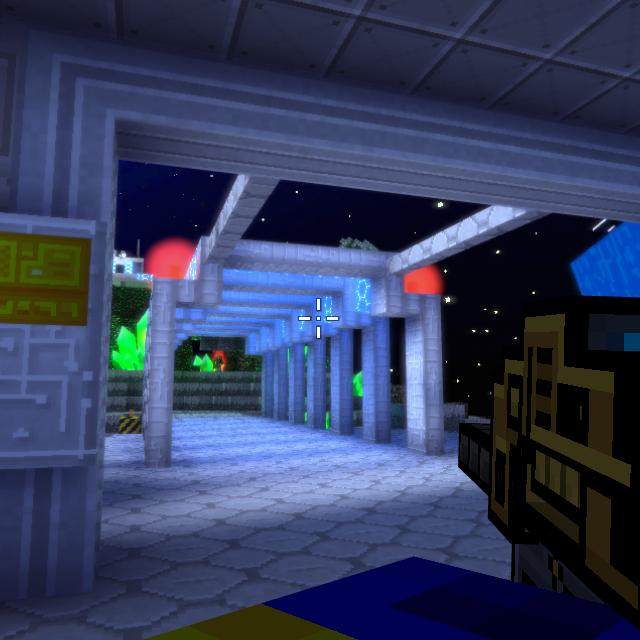Enemy: (213, 354, 225, 371)
